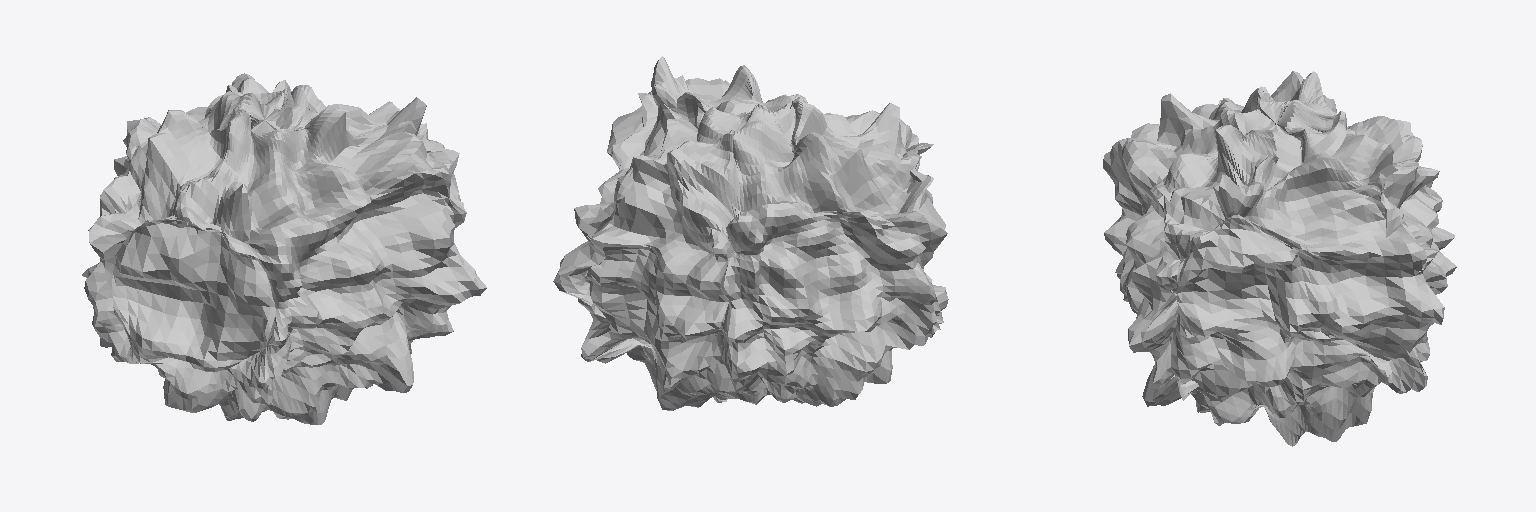
Rendered from Asteroid_rocky.obj.
3 renders of one model, left to right at view 1: azimuth 30°, elevation 25°; view 2: azimuth 150°, elevation 25°; view 3: azimuth 270°, elevation 25°, orthographic.
Parts seen in each view (by area): view 1: Ice_Asteroid.001; view 2: Ice_Asteroid.001; view 3: Ice_Asteroid.001.
Part boxes in pixels (left/top/right/bottom): Ice_Asteroid.001: left=82, top=73, right=486, bottom=424; Ice_Asteroid.001: left=553, top=56, right=948, bottom=410; Ice_Asteroid.001: left=1103, top=71, right=1456, bottom=446.
Bounding box in the file's own units: 2.02 × 1.76 × 1.79.